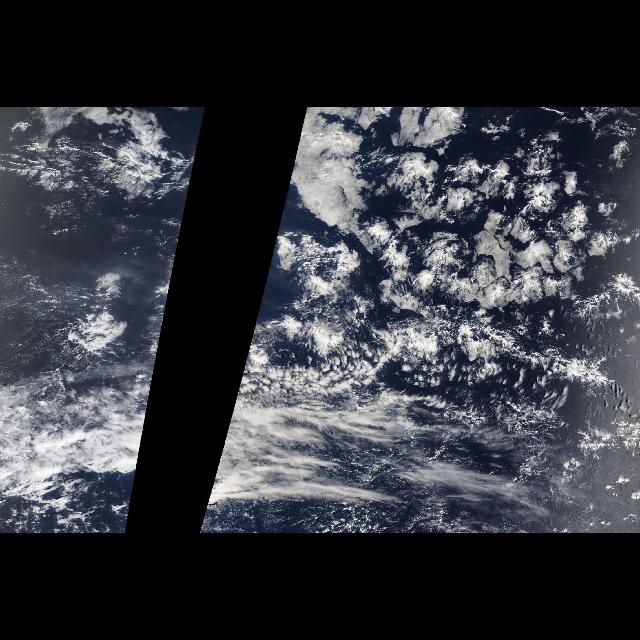Flower: (268, 111, 634, 403)
